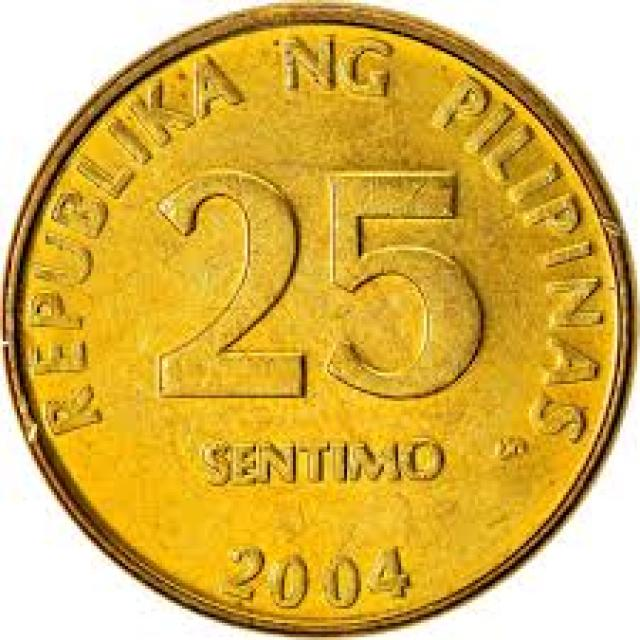25 cents-old: (13, 0, 640, 636)
